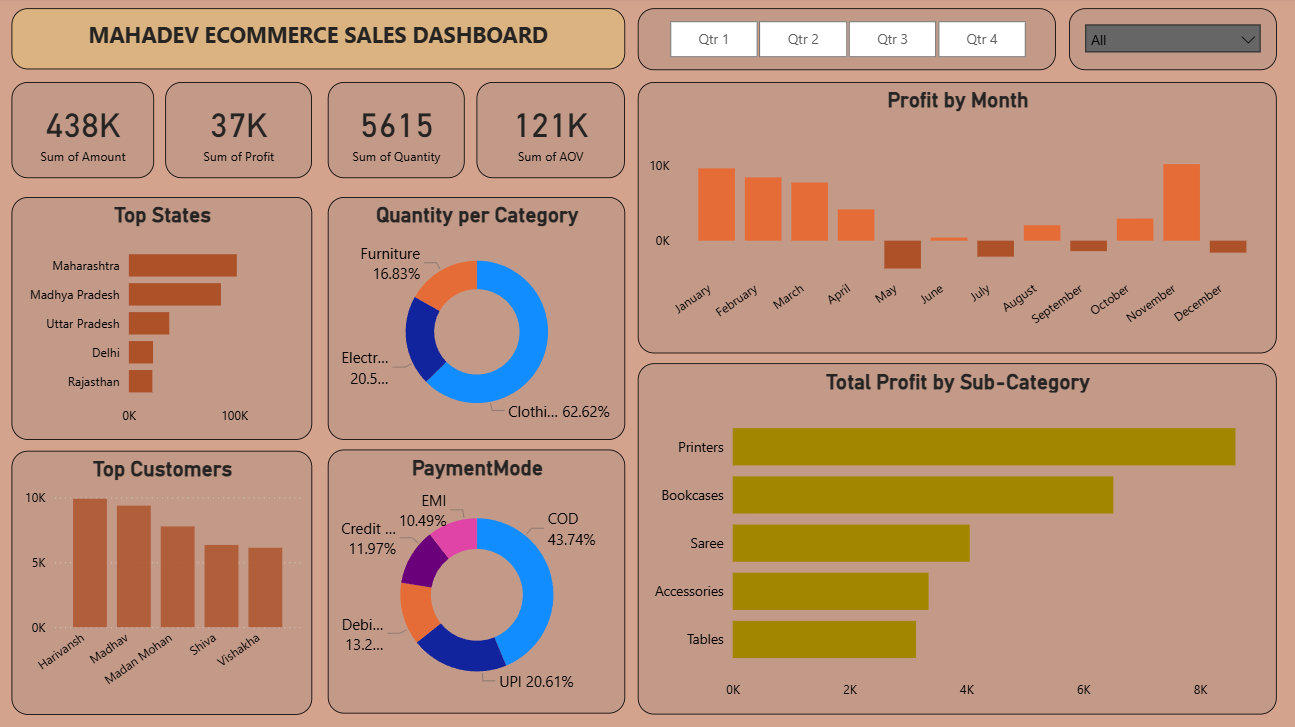

This screenshot's page, from the dashboard's own definition file:
{"tool":"powerbi","page":{"name":"Page 1","canvas":[1280,720],"ordinal":0},"visuals":[{"type":"textbox","box":[12.3,11,602.4,60.4],"z":0},{"type":"columnChart","title":"Profit by Month","fields":{"Y":["Sum(Details.Profit)"],"Category":["Orders.Order Date.Variation.Date Hierarchy.Month"]},"box":[627.1,83.7,627.1,266.2],"z":1000},{"type":"clusteredBarChart","title":"Total Profit by Sub-Category","fields":{"Category":["Details.Sub-Category"],"Y":["Sum(Details.Profit)"]},"box":[627.1,359.5,627.1,344.4],"z":2000},{"type":"pieChart","title":"Quantity per Category","fields":{"Category":["Details.Category"],"Y":["Sum(Details.Quantity)"]},"box":[322.5,196.2,292.3,238.8],"z":3000},{"type":"pieChart","title":" PaymentMode","fields":{"Y":["Sum(Details.Quantity)"],"Category":["Details.PaymentMode"]},"box":[322.5,444.6,292.3,259.3],"z":4000},{"type":"card","fields":{"Values":["Sum(Details.Profit)"]},"box":[163.3,83.7,144.1,94.7],"z":5000},{"type":"card","fields":{"Values":["Sum(Details.Amount)"]},"box":[12.3,83.7,140,94.7],"z":6000},{"type":"card","fields":{"Values":["Sum(Details.Quantity)"]},"box":[322.5,83.7,134.5,94.7],"z":7000},{"type":"card","fields":{"Values":["Sum(Details.AOV)"]},"box":[469.3,83.7,145.5,94.7],"z":8000},{"type":"barChart","title":"Top States","fields":{"Category":["Orders.State"],"Y":["Sum(Details.Amount)"]},"box":[12.3,196.2,295,238.8],"z":9000},{"type":"columnChart","title":" Top Customers","fields":{"Category":["Orders.CustomerName"],"Y":["Sum(Details.Amount)"]},"box":[12,445,295,259],"z":10000},{"type":"slicer","fields":{"Values":["Orders.Order Date.Variation.Date Hierarchy.Quarter"]},"box":[627,11.2,410.5,61],"z":11000},{"type":"slicer","fields":{"Values":["Orders.City"]},"box":[1049.9,11.2,204,61],"z":12000}]}

Visuals, with their boxes in screenshot pixels (x1, y1, x2, y2), scaled from the page's 1280x720 canvas onto the 1295x727 screenshot:
textbox: detection(12, 11, 622, 72)
"Profit by Month" columnChart: detection(634, 85, 1269, 353)
"Total Profit by Sub-Category" clusteredBarChart: detection(634, 363, 1269, 711)
"Quantity per Category" pieChart: detection(326, 198, 622, 439)
" PaymentMode" pieChart: detection(326, 449, 622, 711)
card - Sum(Details.Profit): detection(165, 85, 311, 180)
card - Sum(Details.Amount): detection(12, 85, 154, 180)
card - Sum(Details.Quantity): detection(326, 85, 462, 180)
card - Sum(Details.AOV): detection(475, 85, 622, 180)
"Top States" barChart: detection(12, 198, 311, 439)
" Top Customers" columnChart: detection(12, 449, 311, 711)
slicer - Orders.Order Date.Variation.Date Hierarchy.Quarter: detection(634, 11, 1050, 73)
slicer - Orders.City: detection(1062, 11, 1269, 73)
